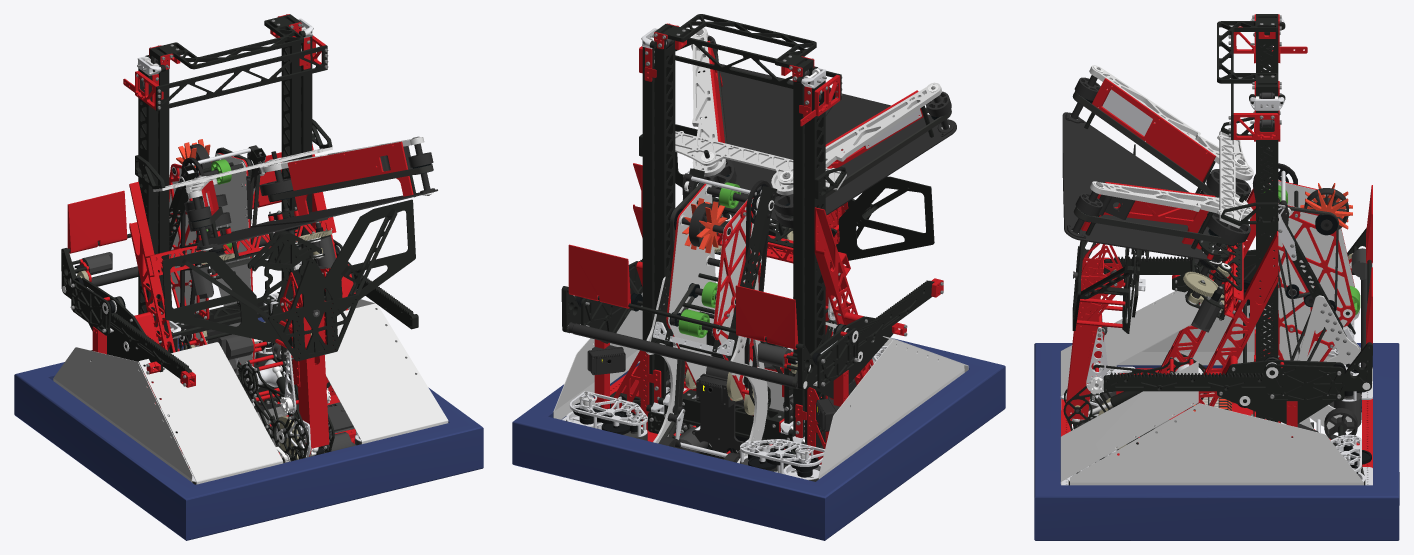
3 renders of one model, left to right at view 1: azimuth 30°, elevation 25°; view 2: azimuth 150°, elevation 25°; view 3: azimuth 270°, elevation 25°, orthographic. The views are drawn at different scales.
Parts seen in each view (by area): view 1: Part 22.001, left back, right back, left side, Part 75, P-25A-0210, Part 72, L1PusherV2.5PLA, Base Stage 2x1, Cross Beam, P-25A-0216, ELEVATOR SUPPORT 2 (+27 smaller); view 2: Part 22.001, left side, FUNNEL FLAP, RIGHT, Stage 1 2x1, FUNNEL FLAP, LEFT, Base Stage 2x1, Part 75, Base Stage 2x1.001, Stage 1 2x1.001, GUSTAV INNER PLATE, RIGHT, L1PusherV3Right, L1PusherV2.5PLA (+38 smaller); view 3: Part 22.001, right side, right back, GUSTAV INNER PLATE, RIGHT, FUNNEL FLAP, LEFT, left back, FUNNEL FLAP, RIGHT, Base Stage 2x1.001, Part 10, Part 69.001, Elevator Support 1, Part 12 (+48 smaller).
Boxes of the visible parts, x1,y1,x2,y2 form: Part 22.001: (14,317,483,540); left back: (138,342,283,484); right back: (325,303,448,443); left side: (53,347,192,482); Part 75: (162,199,415,343); P-25A-0210: (268,258,359,361); Part 72: (287,141,413,215); L1PusherV2.5PLA: (67,190,127,253); Base Stage 2x1: (138,68,157,404); Cross Beam: (156,45,327,111); P-25A-0216: (293,294,329,456); ELEVATOR SUPPORT 2: (129,181,189,468); Part 22.001: (512,337,1005,540); left side: (818,340,964,479); FUNNEL FLAP, RIGHT: (705,64,835,209); Stage 1 2x1: (654,38,675,398); FUNNEL FLAP, LEFT: (770,93,956,222); Base Stage 2x1: (805,80,825,447); Part 75: (675,124,934,260); Base Stage 2x1.001: (642,47,654,405); Stage 1 2x1.001: (793,64,813,437); GUSTAV INNER PLATE, RIGHT: (668,184,715,382); L1PusherV3Right: (568,244,630,308); L1PusherV2.5PLA: (735,285,798,349); Part 22.001: (1034,343,1399,540); right side: (1070,403,1363,485); right back: (1060,361,1198,484); GUSTAV INNER PLATE, RIGHT: (1263,203,1350,418); FUNNEL FLAP, LEFT: (1062,112,1209,230); left back: (1060,291,1198,409); FUNNEL FLAP, RIGHT: (1062,168,1211,260); Base Stage 2x1.001: (1256,110,1278,422); Part 10: (1103,343,1372,391); Part 69.001: (1092,78,1215,182); Elevator Support 1: (1184,231,1278,411); Part 12: (1264,364,1344,401).
Size of the model in its own units: 83.17 by 106 by 83.17.
